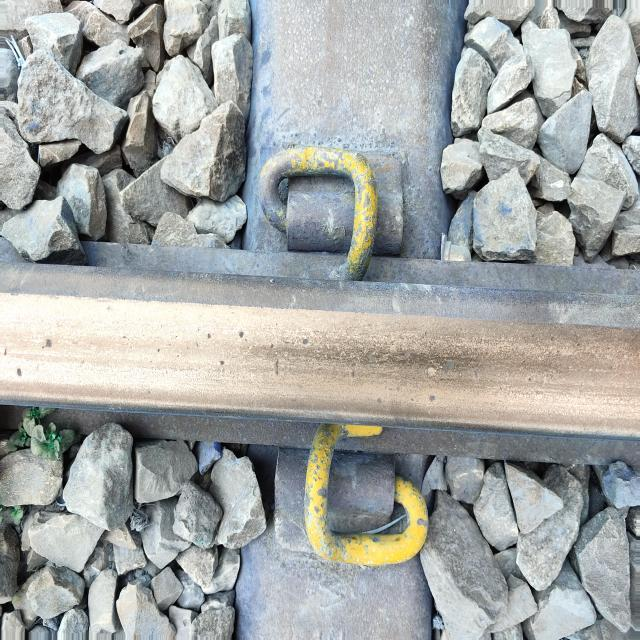Good Fasteners: (275, 424, 431, 624), (259, 144, 407, 281)
